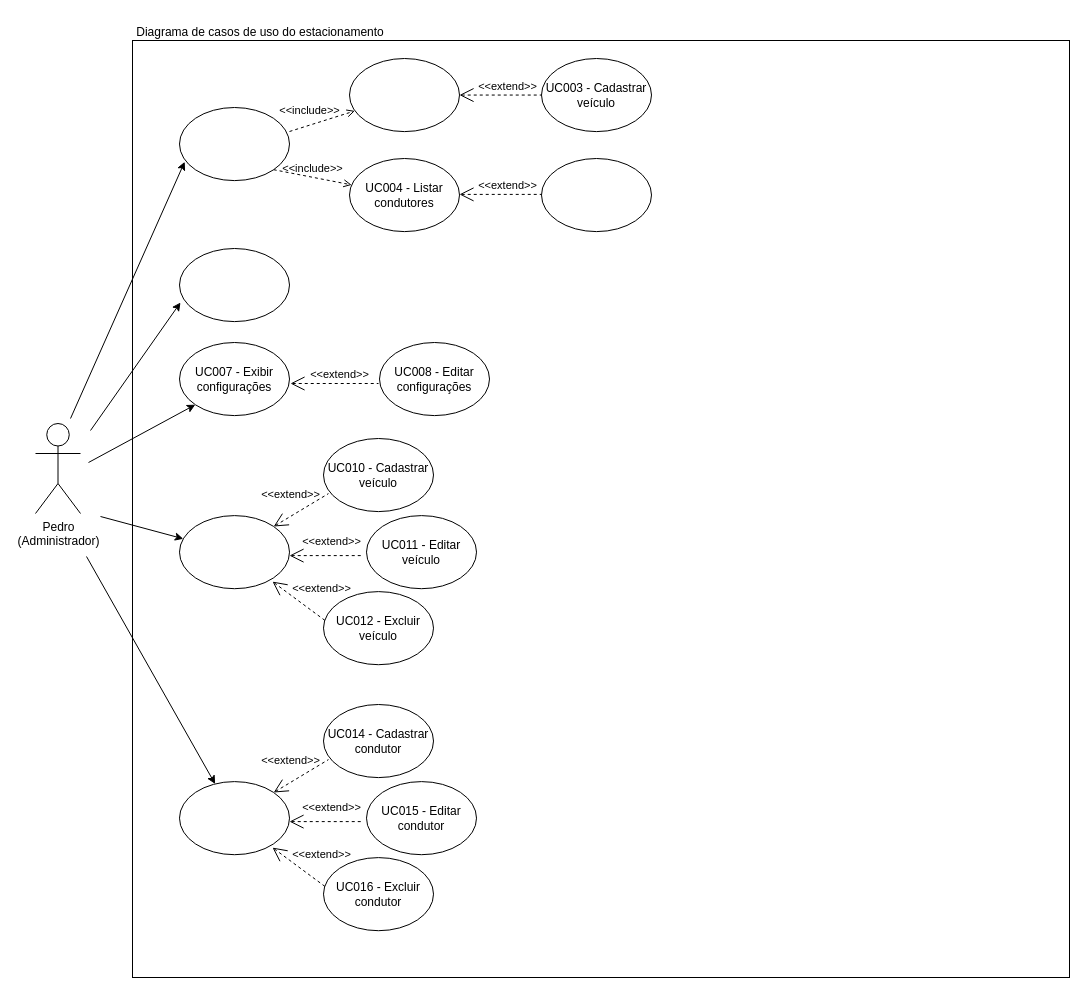
This 1087x995 diagram has some shape labels left out. The shapes that lost their labels are listed below. From the top down, each one's box as (x1, y1, x2, y2) in pixels, then its label:
(348, 58, 460, 132): UC002 - Listar veículos
(178, 106, 290, 181): UC001 - Registrar movimentação
(540, 158, 652, 232): UC005 - Cadastrar condutor
(178, 248, 290, 322): UC006 - Listar movimentações
(178, 515, 290, 589): UC009 - Listar veículos
(178, 781, 290, 855): UC013 - Listar condutores
